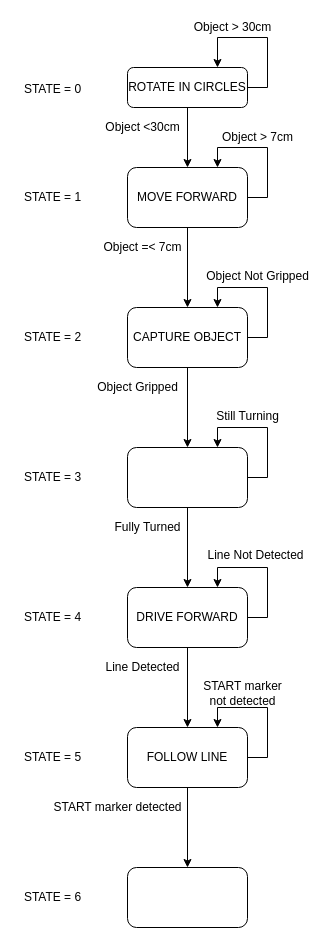
Image size: 334x945. Some labels were removed from this diagram. Each missing label, with the centre of its shape:
STOP,BEEP,DROP: [187,897]
TURN 180: [187,477]
